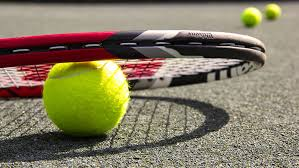tennis_ball: (42, 51, 130, 139), (241, 6, 262, 28), (263, 3, 282, 21)
